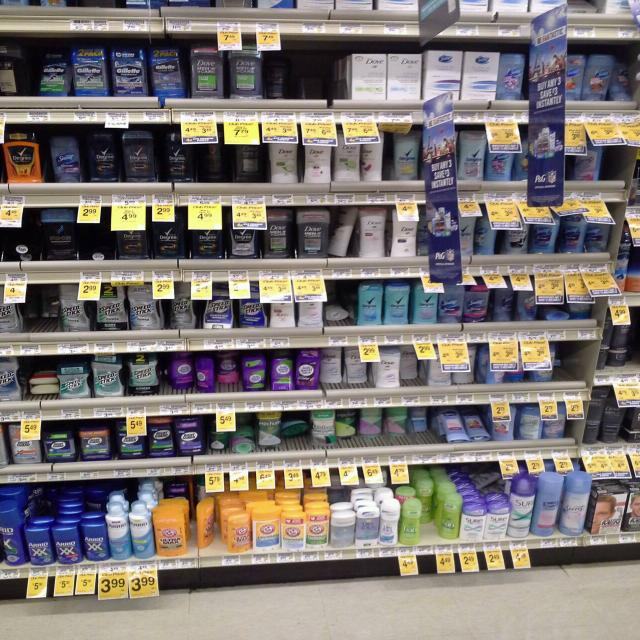unorganised: (336, 407, 431, 447), (320, 348, 371, 389), (149, 46, 187, 99), (442, 408, 490, 446), (168, 353, 214, 392), (39, 48, 71, 99), (329, 207, 358, 259), (166, 292, 199, 330), (192, 499, 216, 548), (393, 211, 418, 257), (361, 131, 383, 183), (224, 512, 252, 552), (235, 143, 262, 184), (475, 215, 499, 257), (560, 214, 585, 254), (531, 214, 556, 253), (310, 410, 337, 445), (259, 411, 284, 447), (201, 145, 225, 181), (214, 352, 239, 386), (400, 346, 421, 386), (28, 370, 59, 396), (612, 59, 629, 103), (588, 222, 608, 252), (327, 304, 352, 324), (419, 485, 432, 522), (284, 418, 309, 437)
